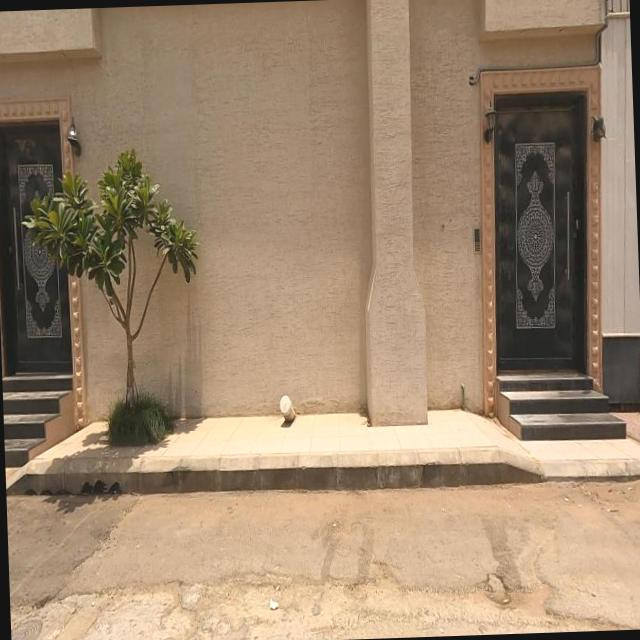debris: (235, 566, 305, 640)
